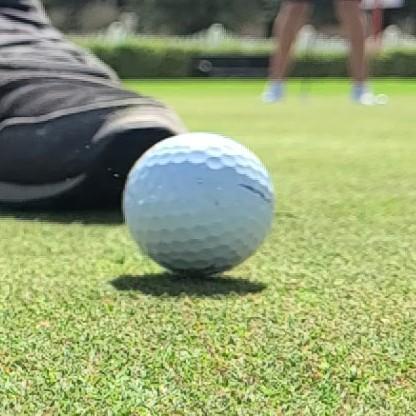golfball: (123, 133, 274, 274)
